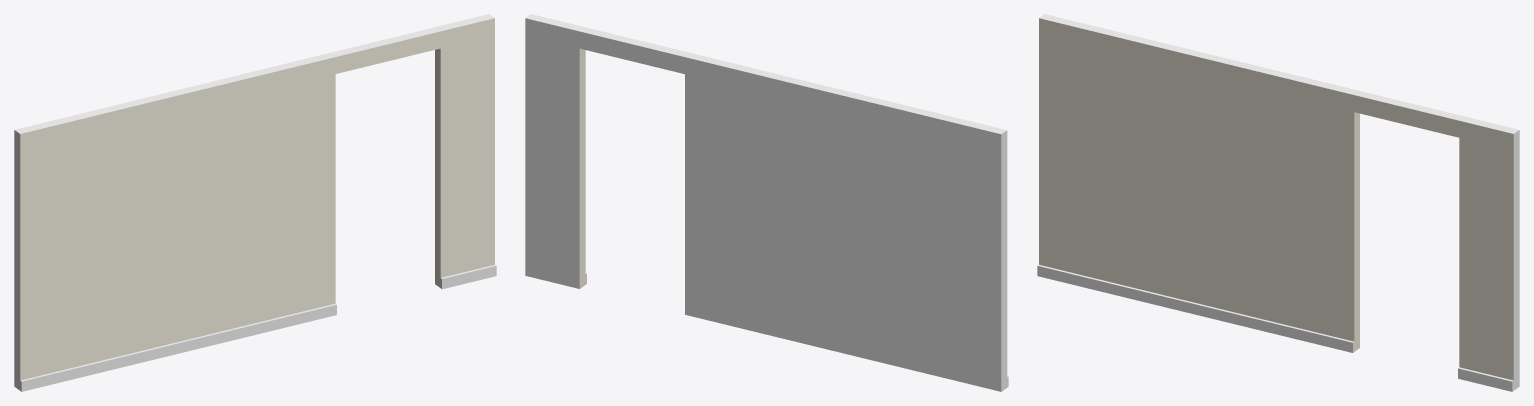
The model's file is Wall 3.FBX.
3 renders of one model, left to right at view 1: azimuth 30°, elevation 25°; view 2: azimuth 150°, elevation 25°; view 3: azimuth 330°, elevation 25°, orthographic.
Visible parts, largest first — view 1: Wall 3; view 2: Wall 3; view 3: Wall 3.
Part boxes in pixels (x1=…): Wall 3: x1=14, y1=14, x2=496, y2=391; Wall 3: x1=525, y1=14, x2=1008, y2=391; Wall 3: x1=1037, y1=14, x2=1519, y2=391.
Size of the model in its own units: 427 by 221 by 11.22.
2 materials, 1 textured.
